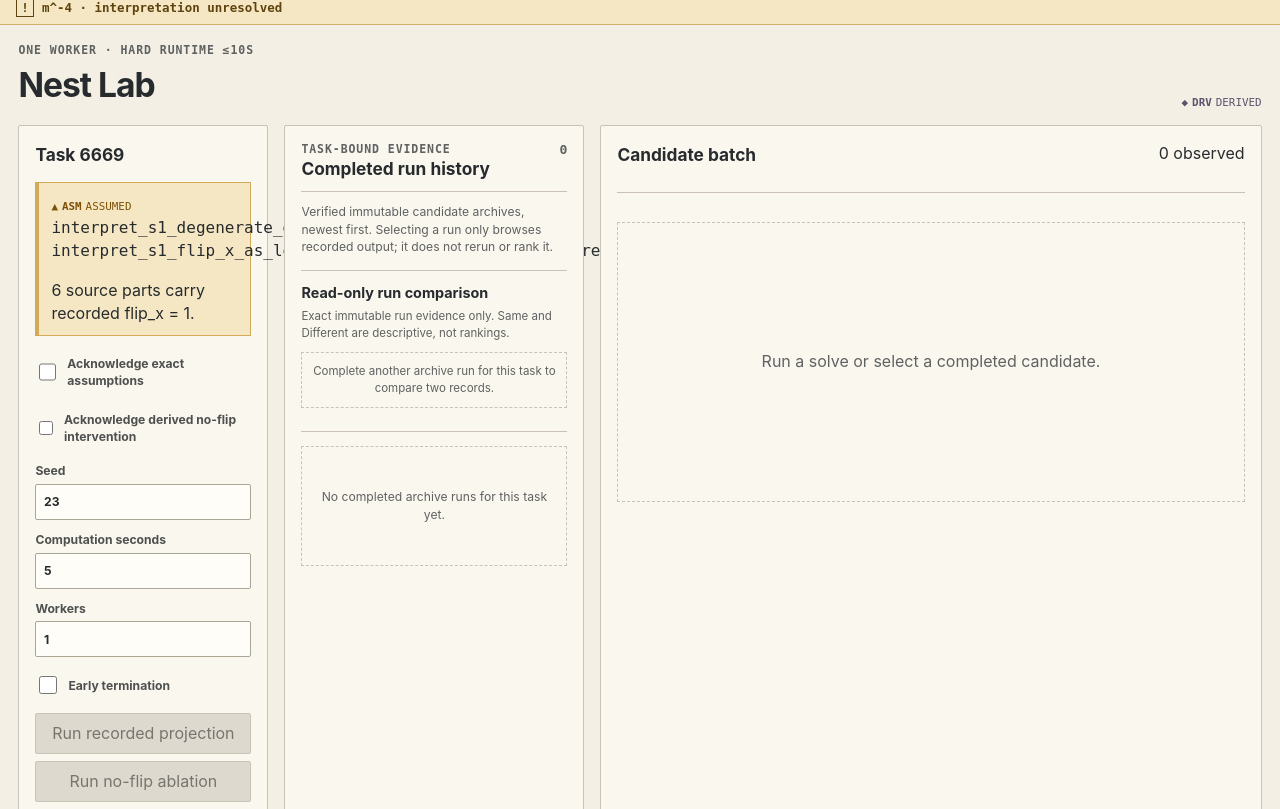
research workbench › starts linked matched arms and exposes source-arm progressive candidates
The image size is (1280, 809).
Click the checkbox labelled "Acknowledge exact assumptions" at (48, 372), box [39, 364, 56, 382]
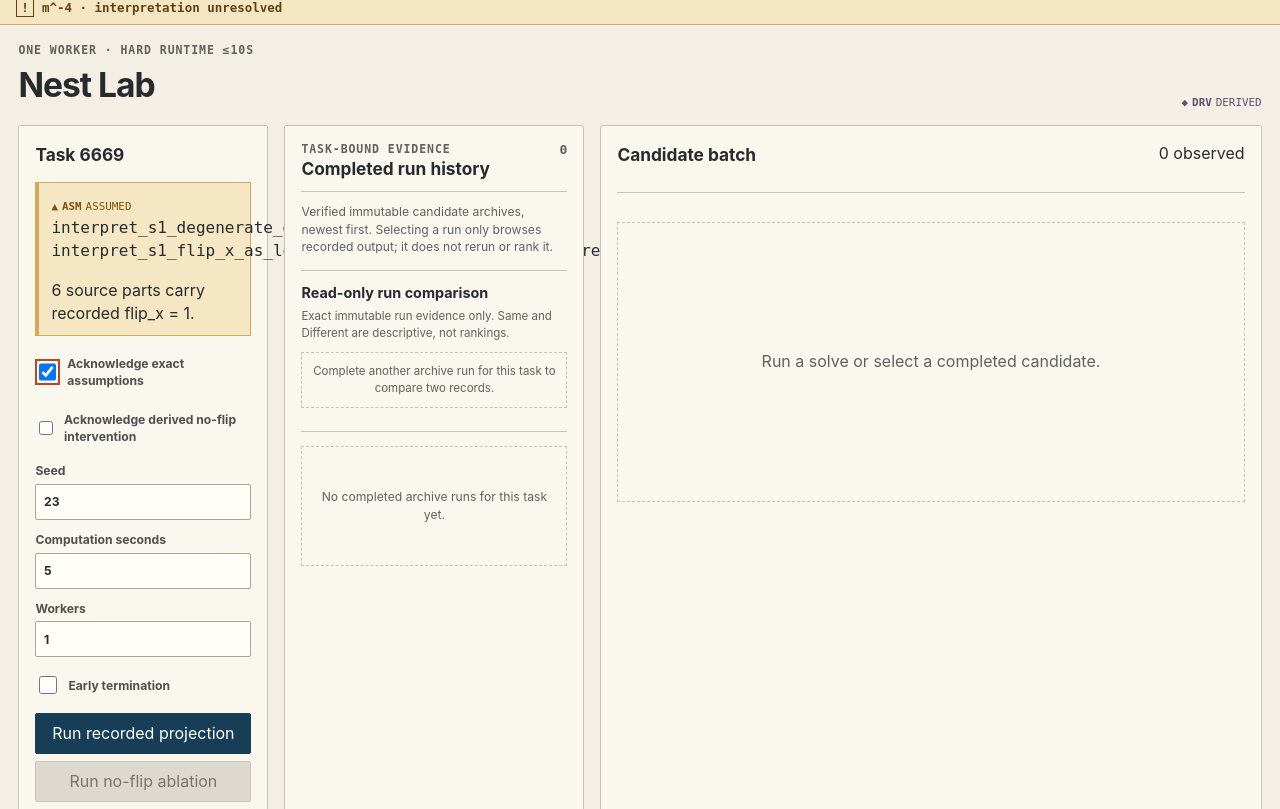
Click the checkbox labelled "Acknowledge derived no-flip intervention" at (46, 428), box [39, 420, 53, 438]
(page scrolled)
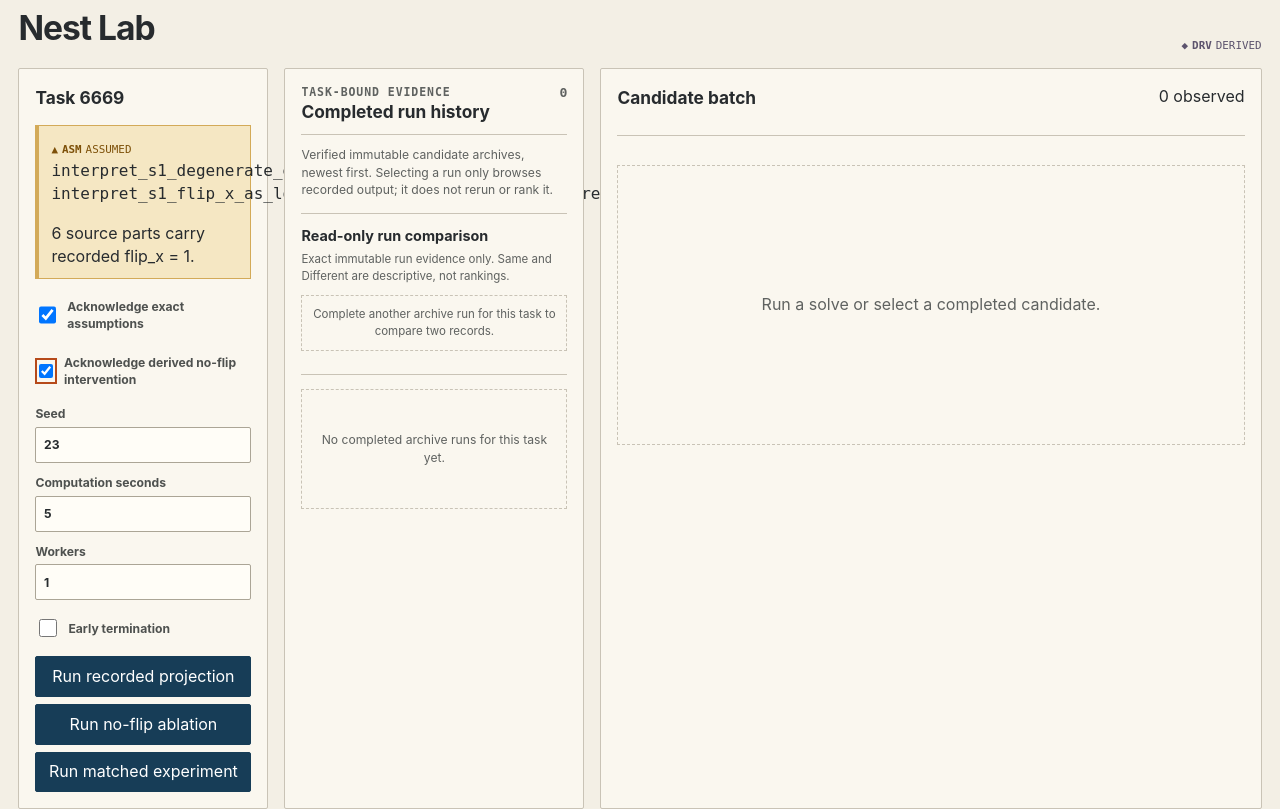
Click the button "Run matched experiment" at (143, 772), box [35, 752, 251, 792]
(page scrolled)
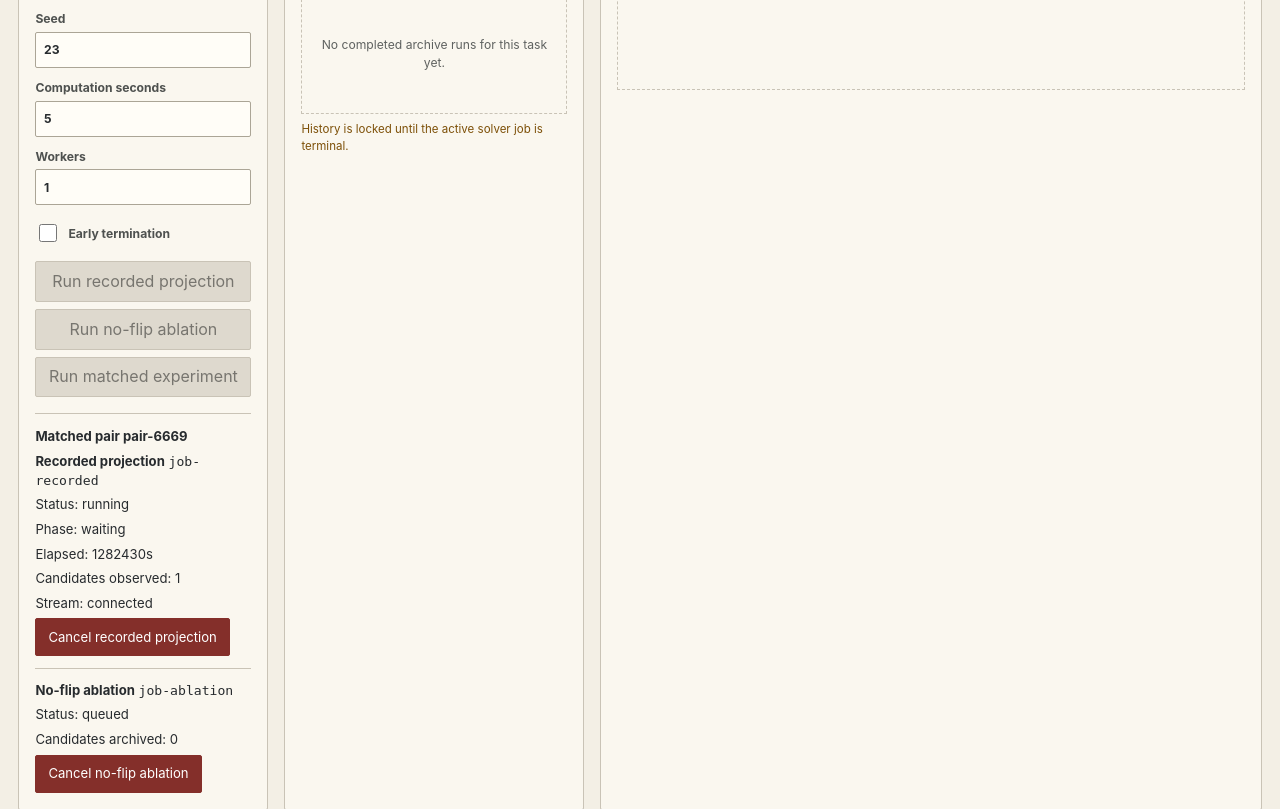
Check: the text "job-recorded" is shown, box [35, 454, 200, 488]
Check: the text "job-ablation" is shown, box [138, 683, 233, 698]
Check: the text "Matched pair pair-6669" is shown, box [35, 428, 188, 444]
